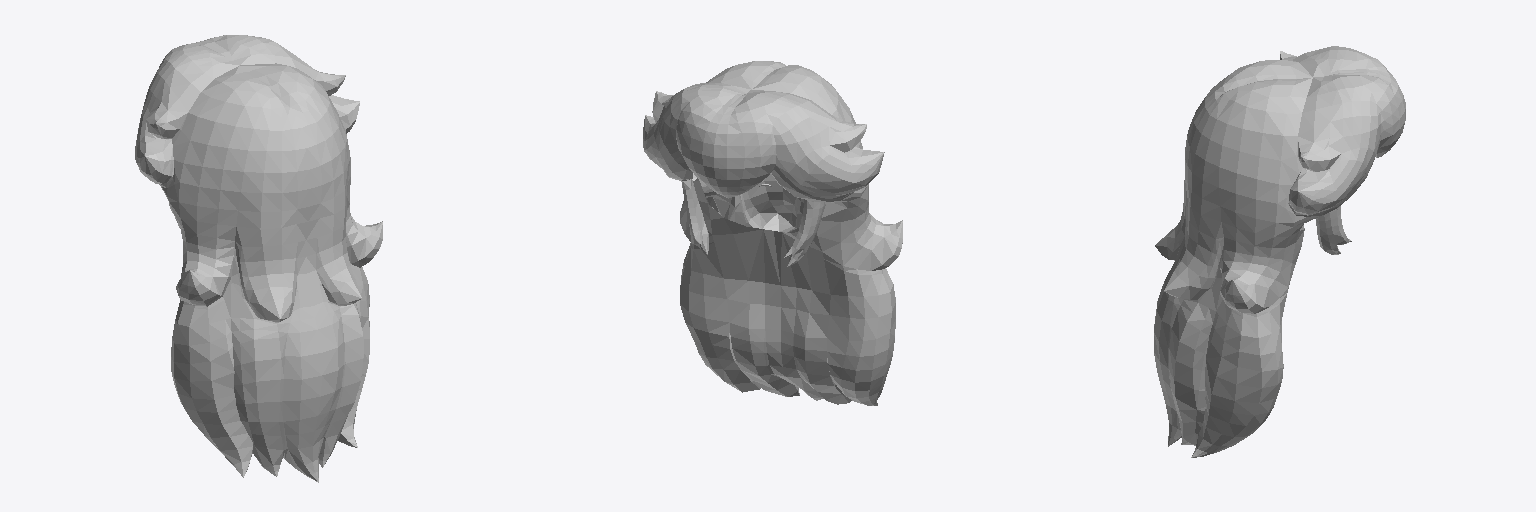
Rendered from peach1.obj.
3 renders of one model, left to right at view 1: azimuth 30°, elevation 25°; view 2: azimuth 150°, elevation 25°; view 3: azimuth 270°, elevation 25°, orthographic.
Parts seen in each view (by area): view 1: submesh_3; view 2: submesh_3; view 3: submesh_3.
Boxes of the visible parts, x1=… form: submesh_3: x1=135, y1=35, x2=382, y2=482; submesh_3: x1=643, y1=61, x2=902, y2=405; submesh_3: x1=1154, y1=46, x2=1405, y2=457.
Size of the model in its own units: 2.74 by 4.32 by 2.64.